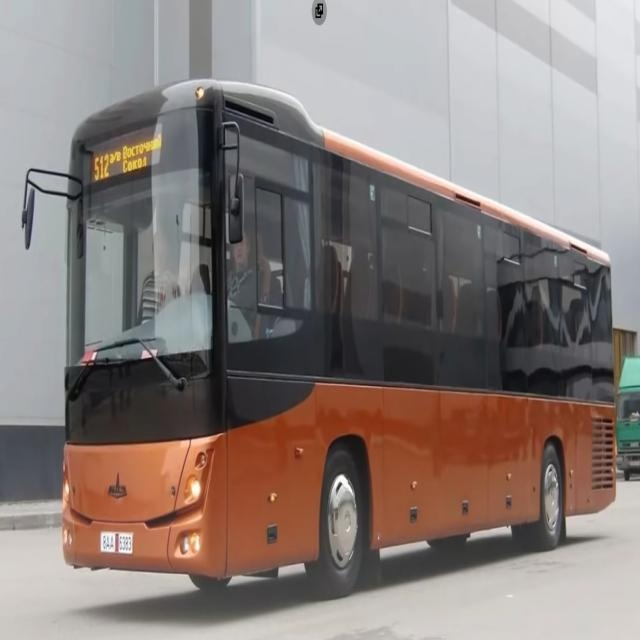Bus: (19, 66, 626, 598)
